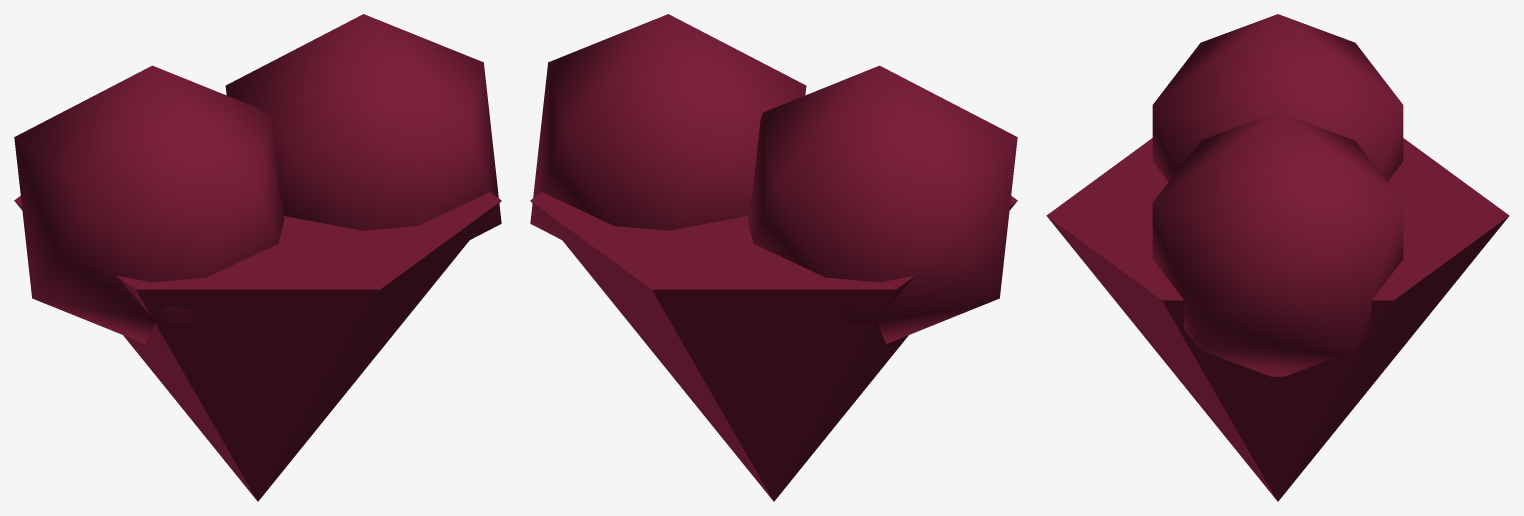
Rendered from demon_heart.glb.
3 views of the same model, side by side, from view 1: azimuth 30°, elevation 25°; view 2: azimuth 150°, elevation 25°; view 3: azimuth 270°, elevation 25° (orthographic). The views are drawn at different scales.
Parts seen in each view (by area): view 1: demon_heart_v0; view 2: demon_heart_v0; view 3: demon_heart_v0.
Boxes of the visible parts, x1=… form: demon_heart_v0: x1=14, y1=14, x2=501, y2=501; demon_heart_v0: x1=530, y1=14, x2=1017, y2=501; demon_heart_v0: x1=1046, y1=14, x2=1509, y2=501.
Size of the model in its own units: 0.2352 by 0.23 by 0.22.
